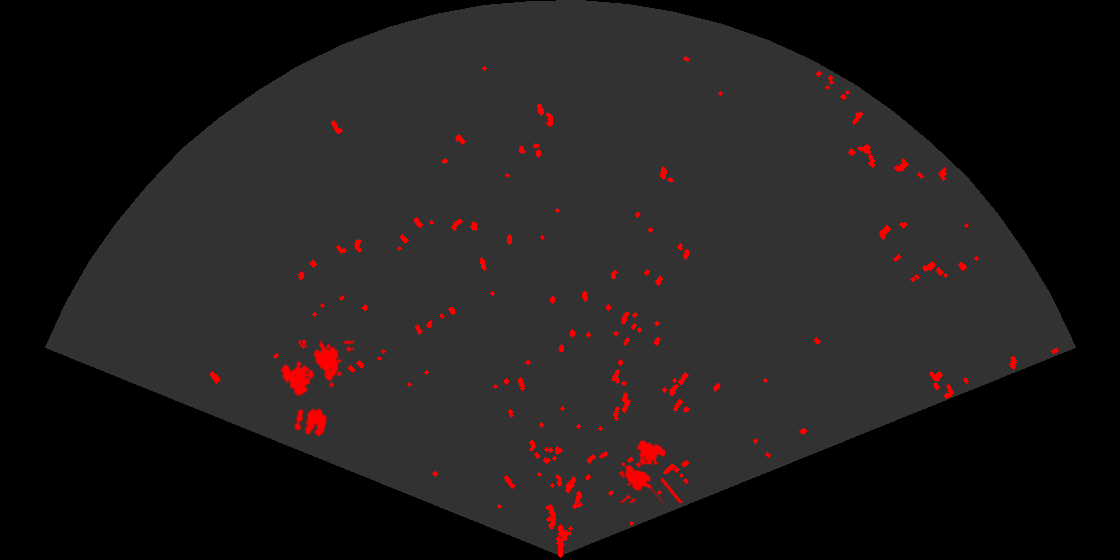ball: (293, 407, 329, 438)
cage: (278, 340, 354, 398), (618, 439, 683, 503)
